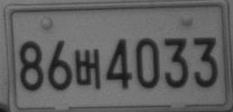0: (135, 37, 160, 89)
3: (193, 36, 218, 88), (163, 37, 188, 87)
4: (106, 38, 132, 88)
6: (47, 40, 72, 90)
8: (19, 40, 44, 91)
버: (75, 48, 100, 88)
